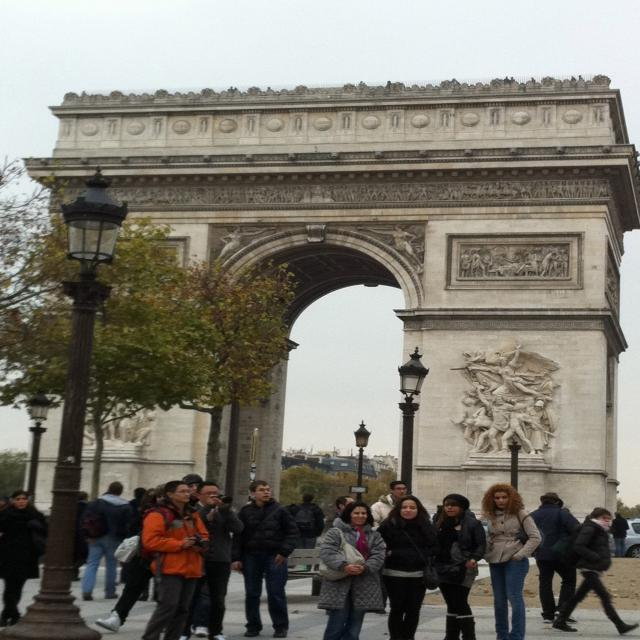body: (548, 504, 640, 637), (93, 482, 172, 634), (139, 478, 212, 640), (229, 478, 299, 640), (179, 480, 246, 640), (315, 500, 388, 640), (479, 482, 541, 640), (428, 492, 489, 640), (376, 495, 436, 640), (523, 491, 582, 625), (80, 479, 136, 601), (0, 490, 47, 627), (371, 479, 408, 530), (294, 492, 326, 550), (72, 492, 91, 582), (323, 496, 355, 534), (611, 511, 630, 558), (181, 473, 206, 508), (274, 491, 297, 509), (130, 487, 150, 504), (1, 496, 10, 509)
